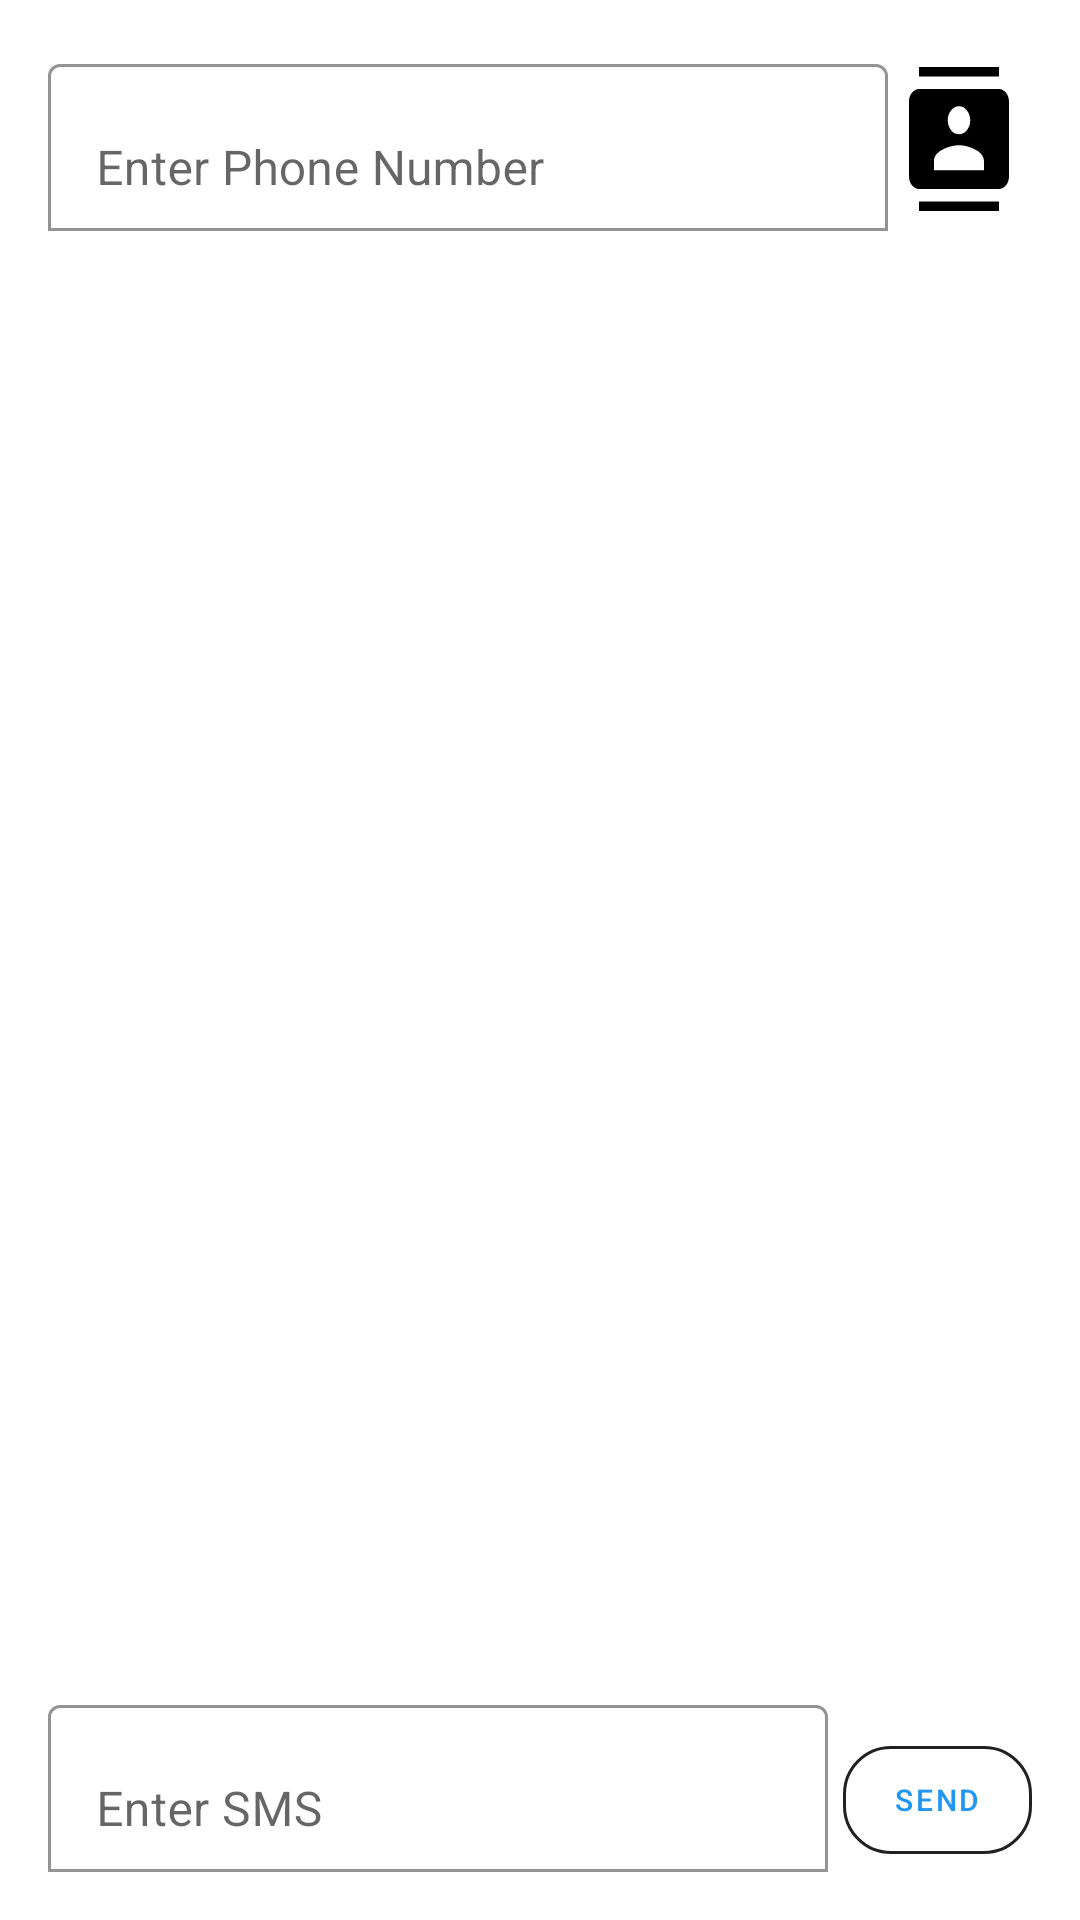

Named icons in this screenshot (1080px×1920px) and their bounding boxes, (x1=x1, y1=y1, x2=x2, y2=y2):
contacts: (x1=909, y1=67, x2=1009, y2=211)
